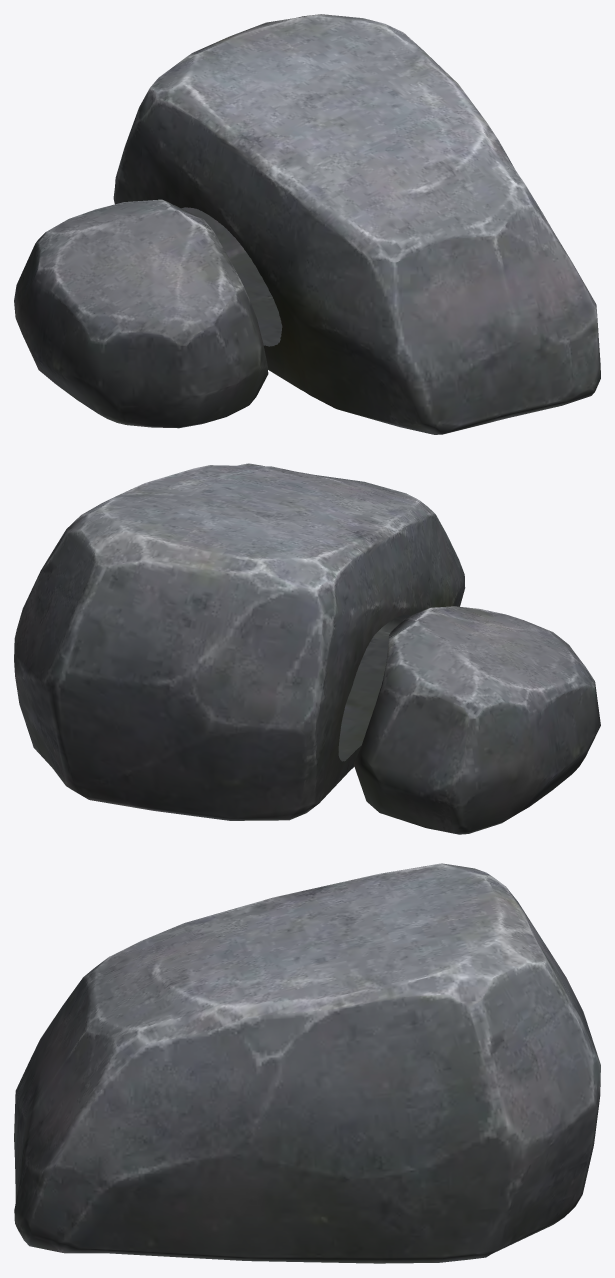
3 renders of one model, top to bottom at view 1: azimuth 30°, elevation 25°; view 2: azimuth 150°, elevation 25°; view 3: azimuth 270°, elevation 25°, orthographic. The views are drawn at different scales.
Parts seen in each view (by area): view 1: SM_Granite_01_LOD0; view 2: SM_Granite_01_LOD0; view 3: SM_Granite_01_LOD0.
Part boxes in pixels (x1=…): SM_Granite_01_LOD0: x1=14, y1=14, x2=600, y2=434; SM_Granite_01_LOD0: x1=14, y1=463, x2=600, y2=834; SM_Granite_01_LOD0: x1=14, y1=863, x2=600, y2=1263.
Bounding box in the file's own units: 0.377 × 0.189 × 0.3685.
Materials: 1 (1 with a texture image).
